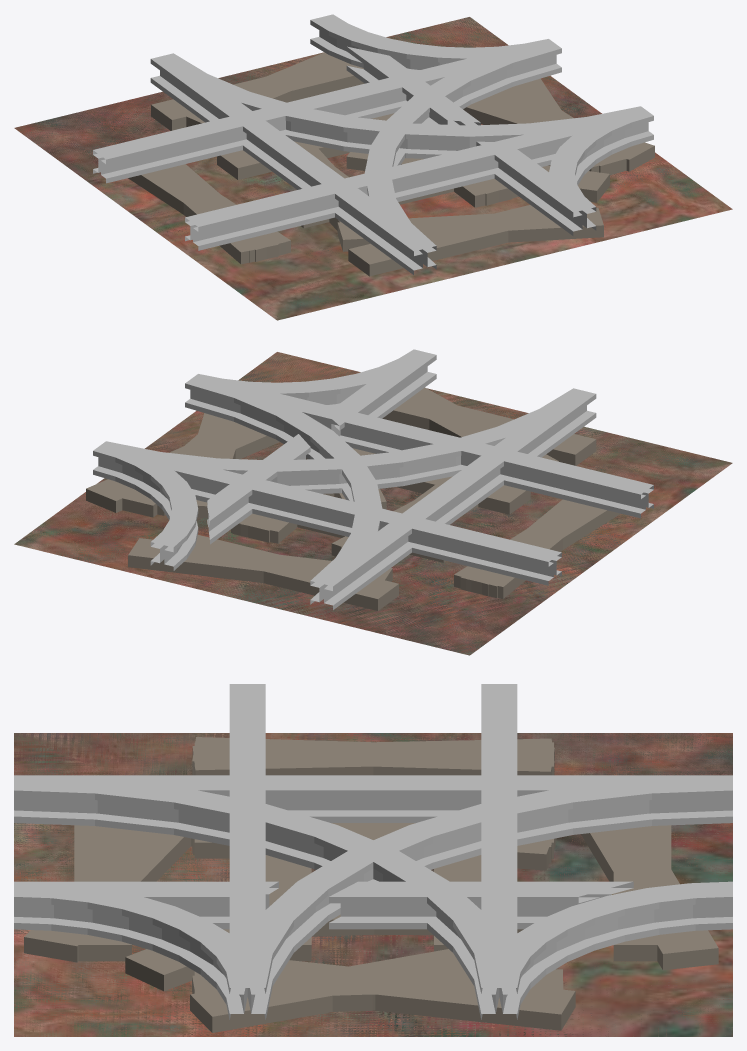
The model's file is cave_minetracks_straight2.glb.
The picture shows the model from 3 angles, top to bottom: view 1: azimuth 30°, elevation 25°; view 2: azimuth 150°, elevation 25°; view 3: azimuth 270°, elevation 25°; orthographic projection. The views are drawn at different scales.
Visible parts, largest first — view 1: TrackSplitR-col, TrackSplitL-col, TrackCurve-col, TrackStraight2-col, TrackStraight1-col; view 2: TrackSplitR-col, TrackStraight2-col, TrackSplitL-col, TrackCurve-col, TrackStraight1-col; view 3: TrackSplitL-col, TrackCurve-col, TrackSplitR-col, TrackStraight2-col, TrackStraight1-col.
Part boxes in pixels (x1,y1,x2,y2): TrackSplitR-col: [20, 14, 732, 320]; TrackSplitL-col: [103, 15, 652, 297]; TrackCurve-col: [15, 17, 728, 306]; TrackStraight2-col: [14, 17, 708, 306]; TrackStraight1-col: [19, 17, 713, 317]; TrackSplitR-col: [93, 352, 732, 655]; TrackStraight2-col: [14, 352, 726, 654]; TrackSplitL-col: [86, 349, 731, 610]; TrackCurve-col: [18, 349, 669, 655]; TrackStraight1-col: [18, 354, 680, 654]; TrackSplitL-col: [14, 733, 732, 1036]; TrackCurve-col: [14, 733, 732, 1036]; TrackSplitR-col: [14, 684, 732, 1036]; TrackStraight2-col: [14, 684, 732, 1036]; TrackStraight1-col: [191, 684, 732, 1035].
Size of the model in its own units: 2 by 0.15 by 2.
3 materials, 1 textured.
